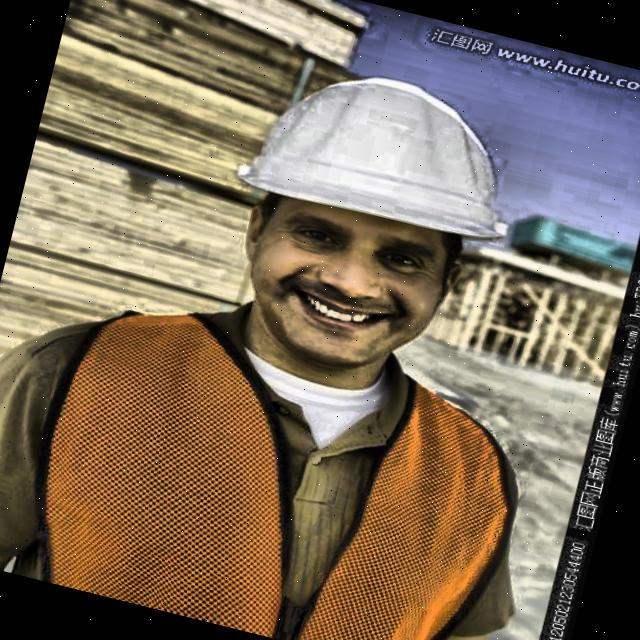helmet: (157, 12, 574, 416)
